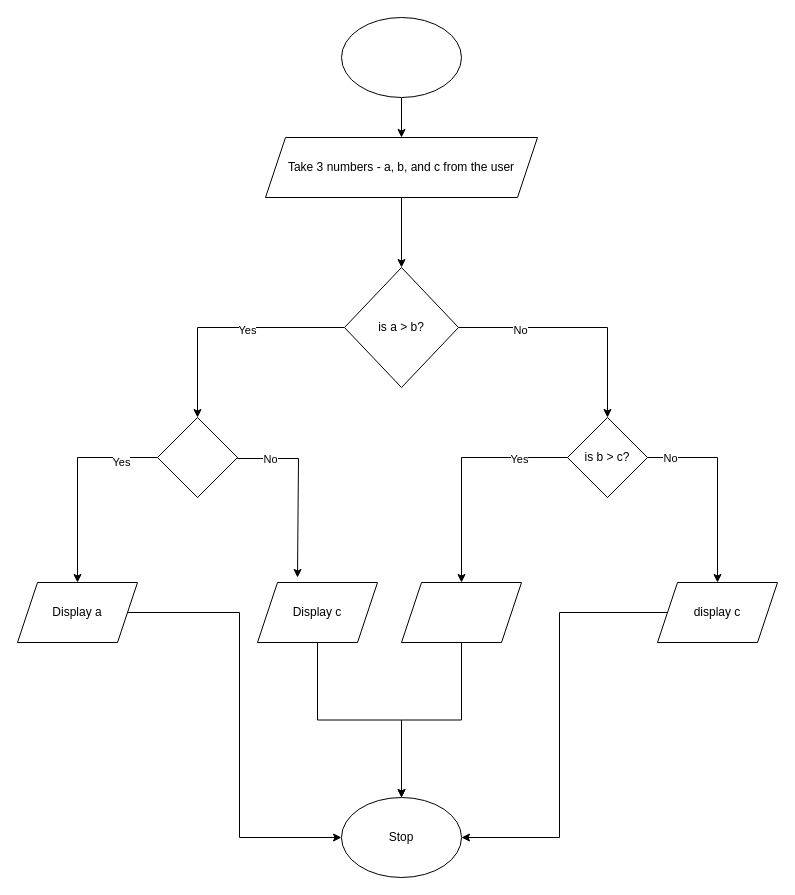
The diagram is 795 pixels wide and 895 high, and some of its shapes have lost their labels. The centre of each missing label's shape, as x and y in pixels:
"display b" goes at (x=461, y=612).
"is a > c?" goes at (x=197, y=457).
"Start" goes at (x=401, y=57).
